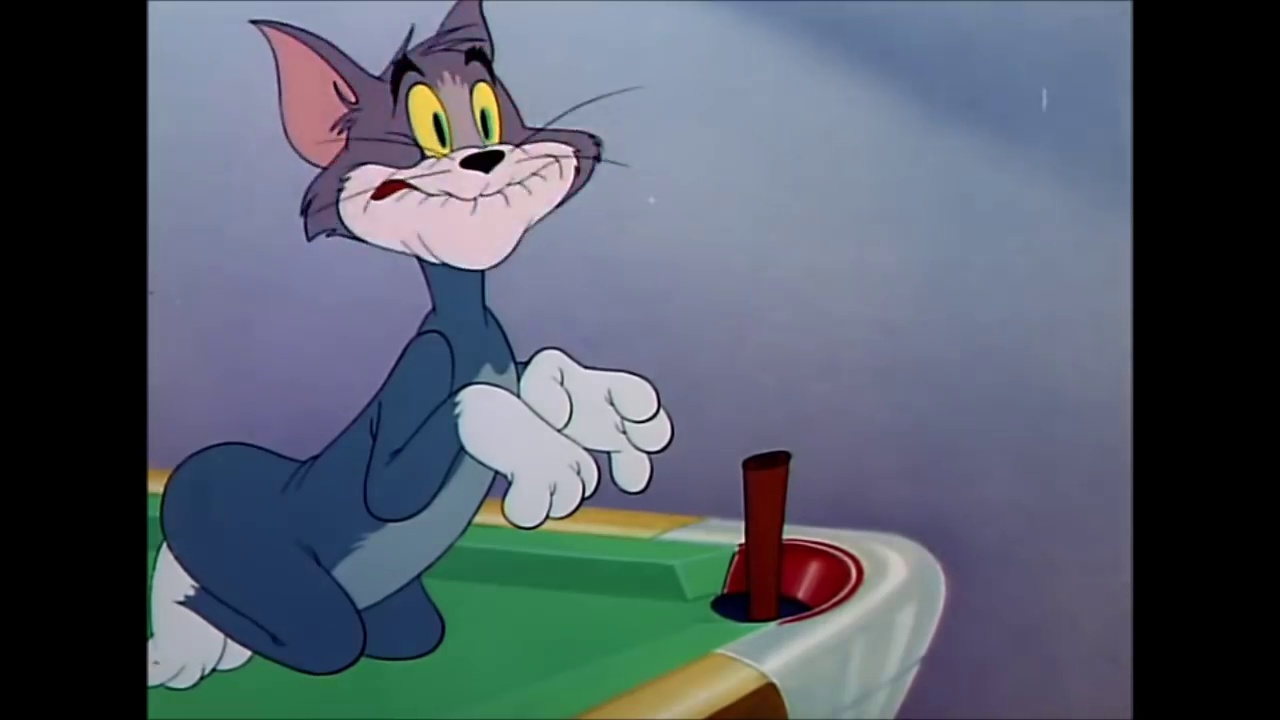sad: (386, 49, 525, 262)
